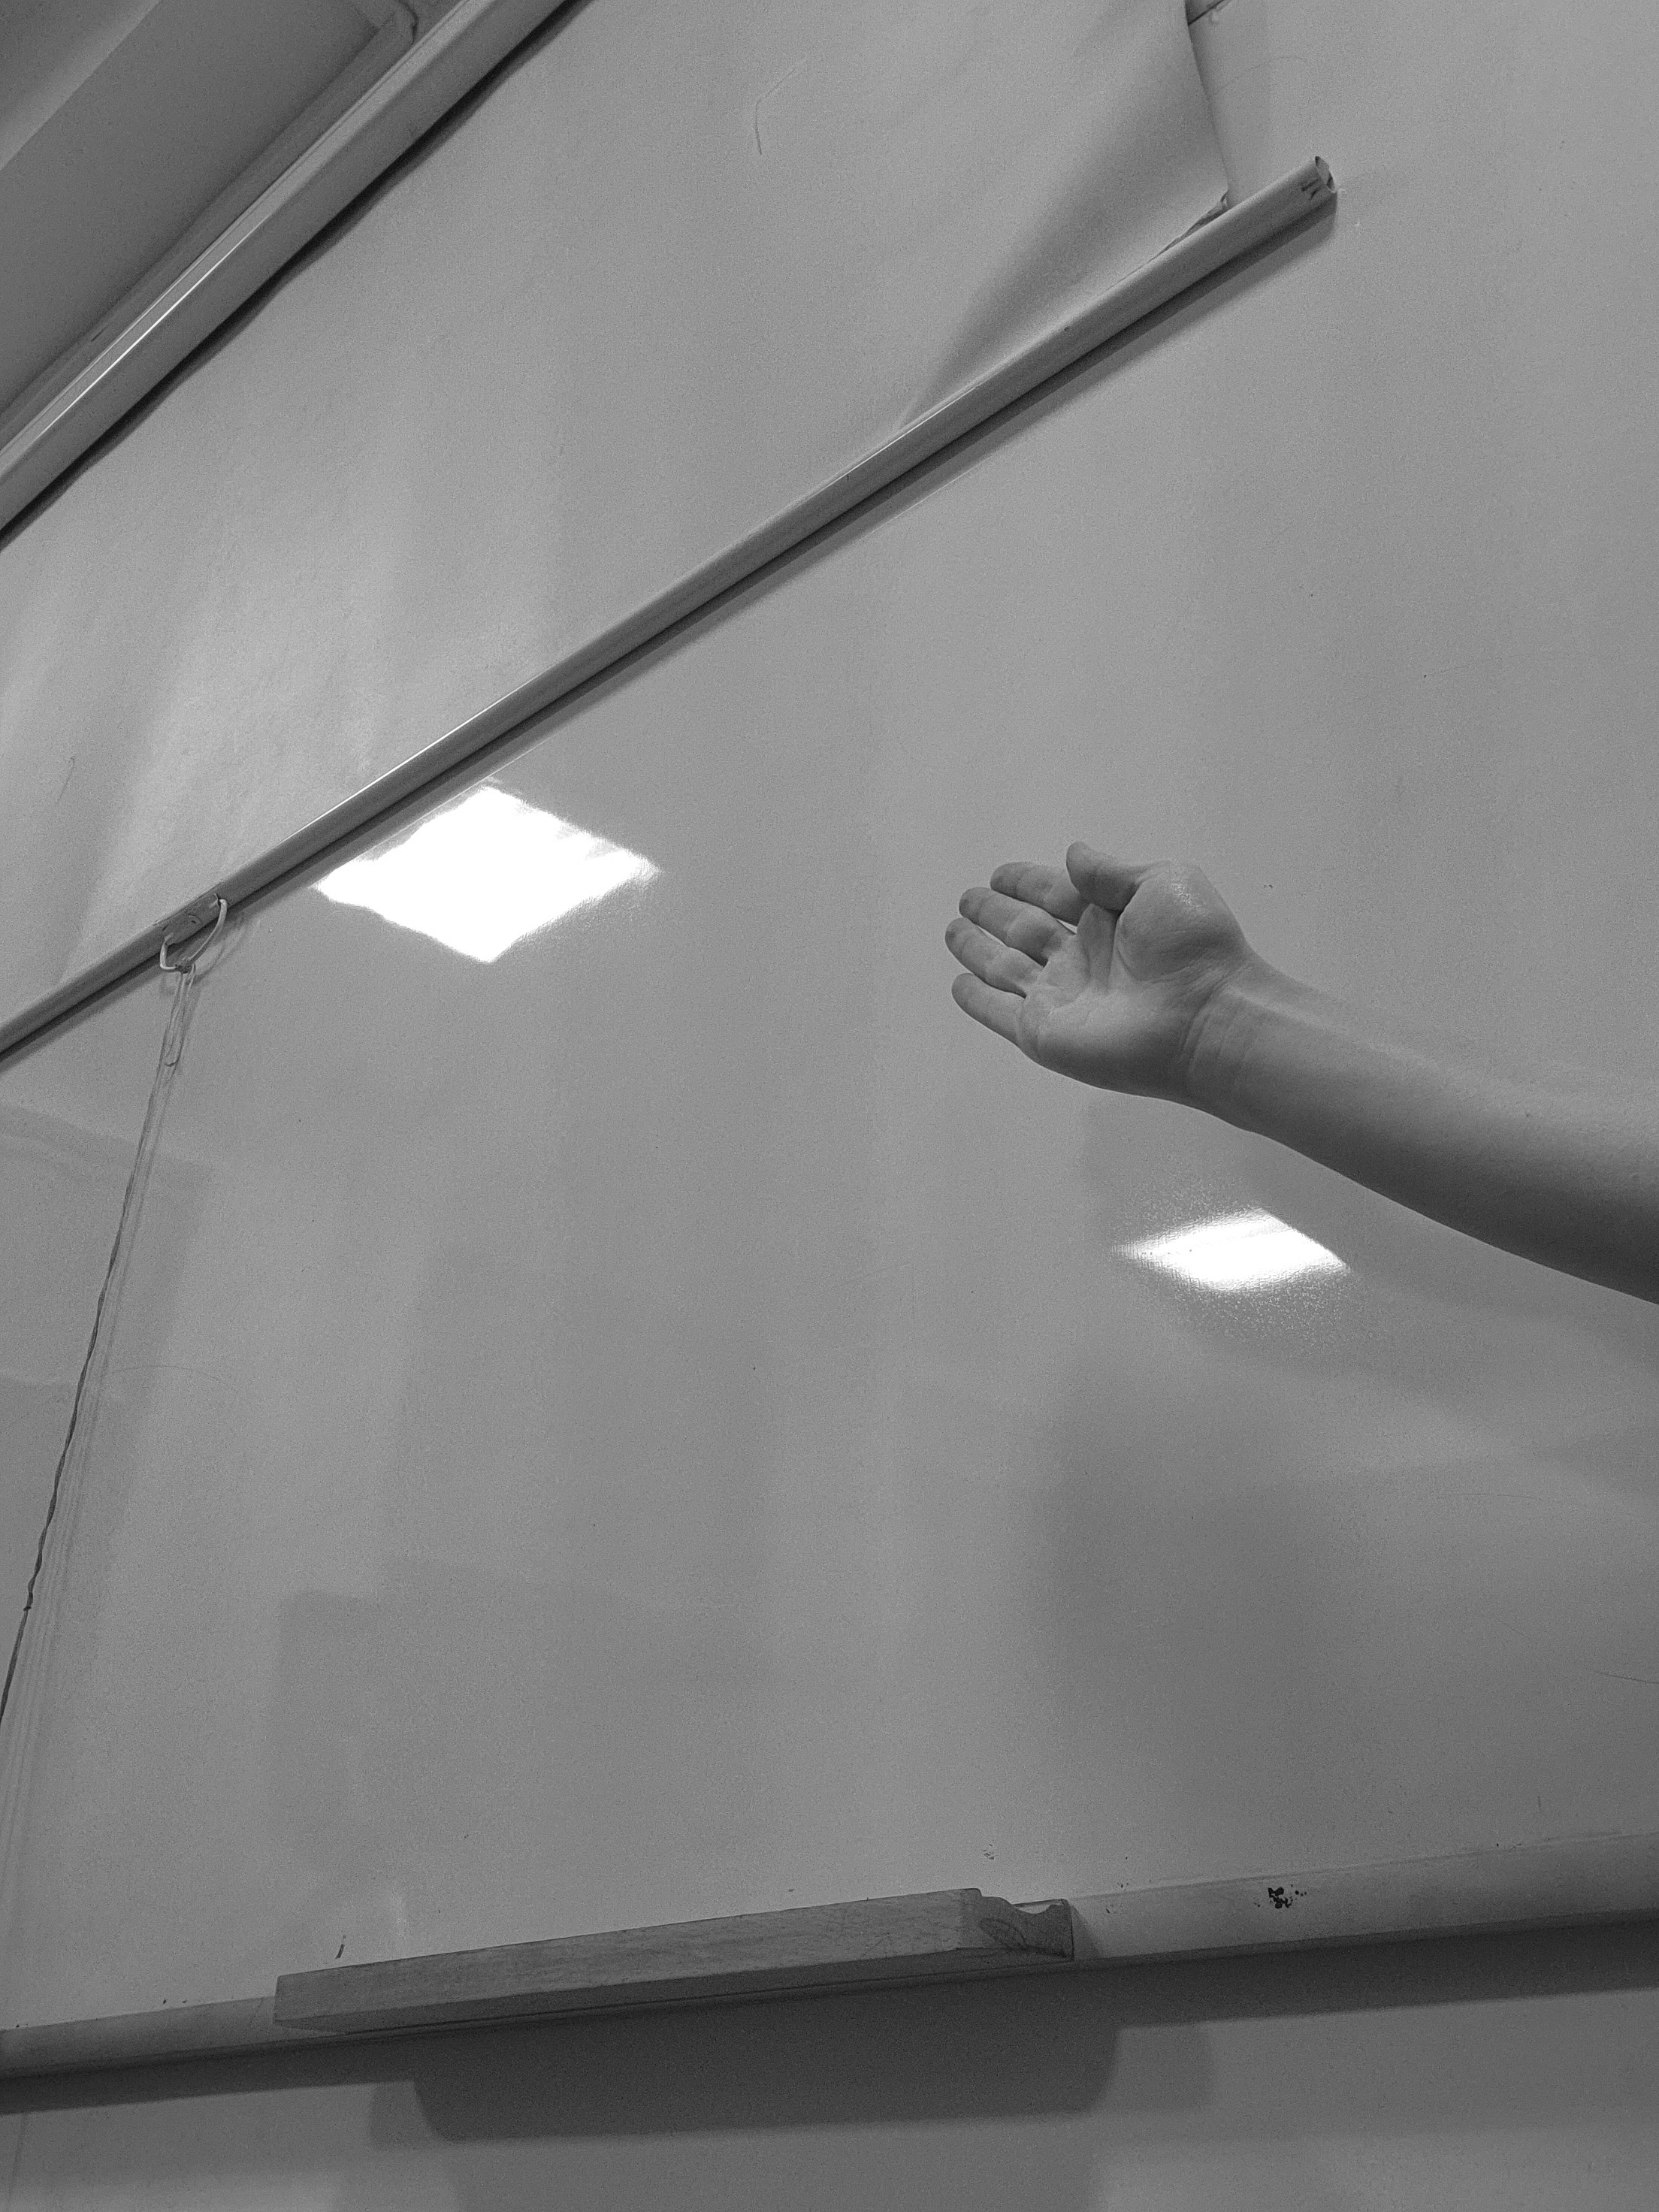pointing_gesture: (934, 840, 1276, 1106)
